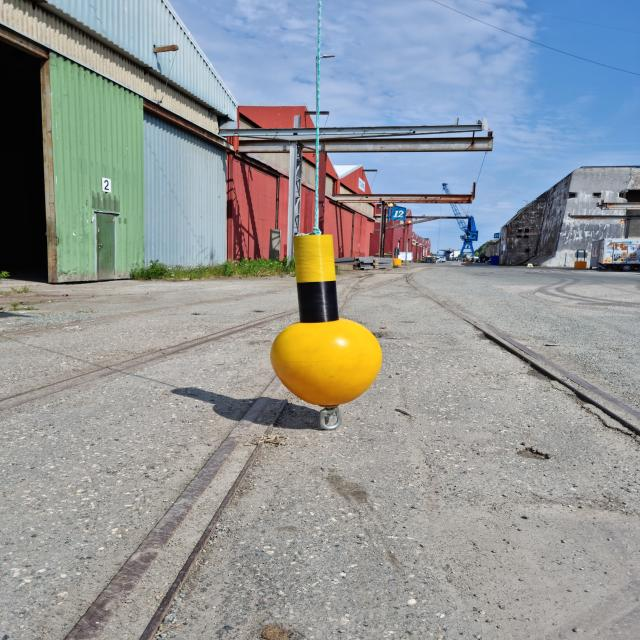west: (272, 234, 382, 405)
